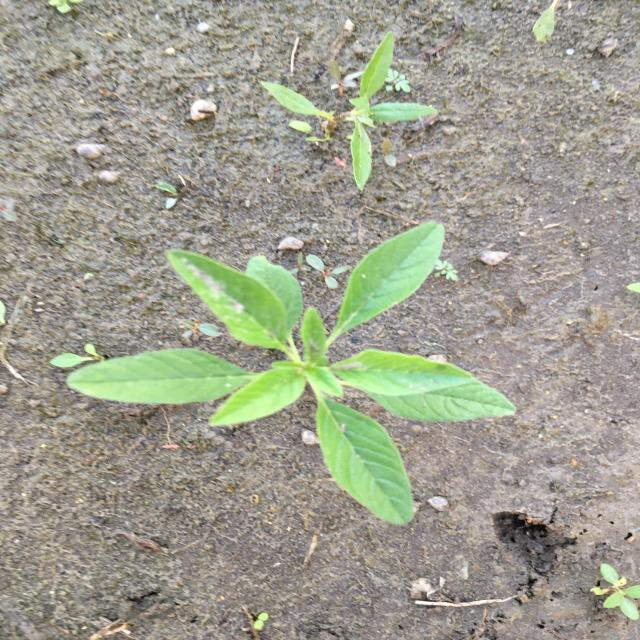Eclipta: (256, 31, 440, 192)
Waterhemp: (64, 218, 521, 531)
